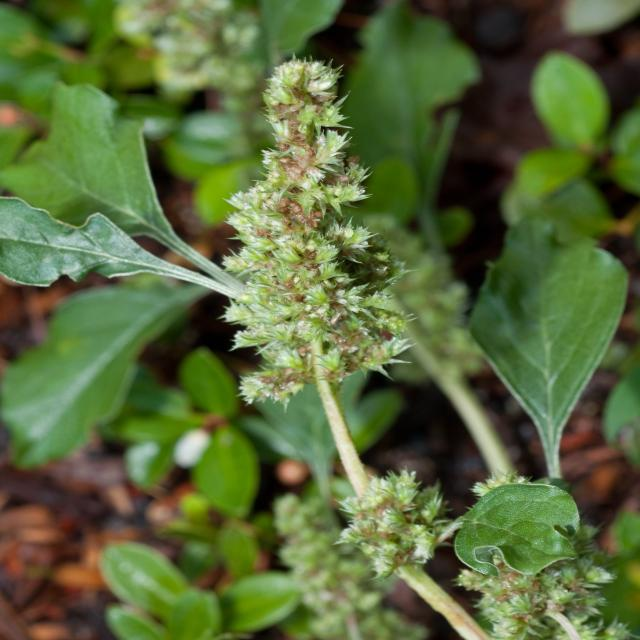Medicinal-Arive Dantu: (0, 54, 445, 428), (368, 451, 620, 639)
